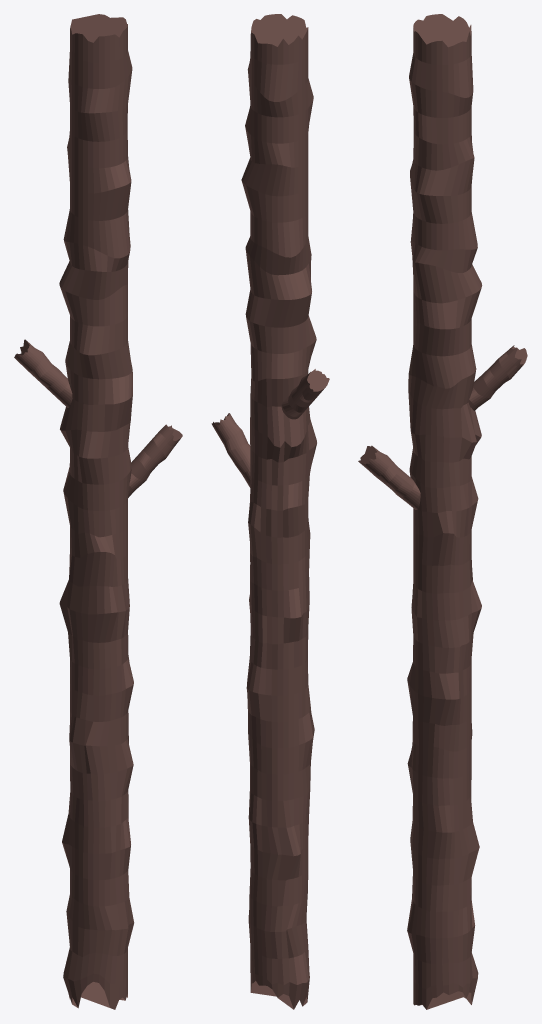
File: Torch5.fbx
3 renders of one model, left to right at view 1: azimuth 90°, elevation 25°; view 2: azimuth 210°, elevation 25°; view 3: azimuth 270°, elevation 25°, orthographic.
Parts seen in each view (by area): view 1: Torch5; view 2: Torch5; view 3: Torch5.
Boxes of the visible parts, x1,y1,x2,y2 form: Torch5: (14,14,182,1009); Torch5: (211,14,329,1009); Torch5: (358,14,527,1009).
Size of the model in its own units: 264 by 3700 by 580.
